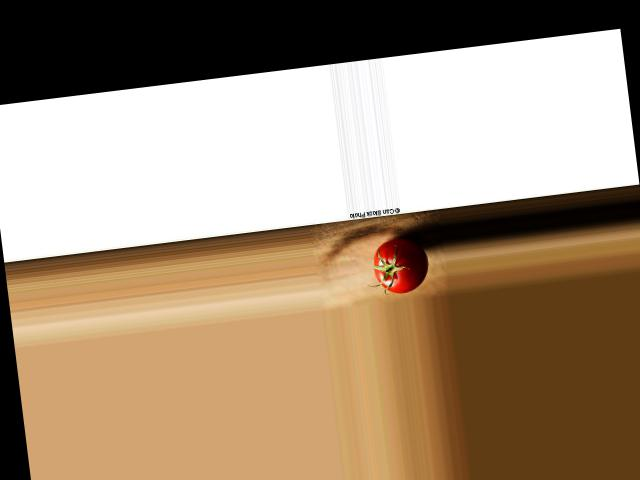tomato: (369, 235, 430, 295)
